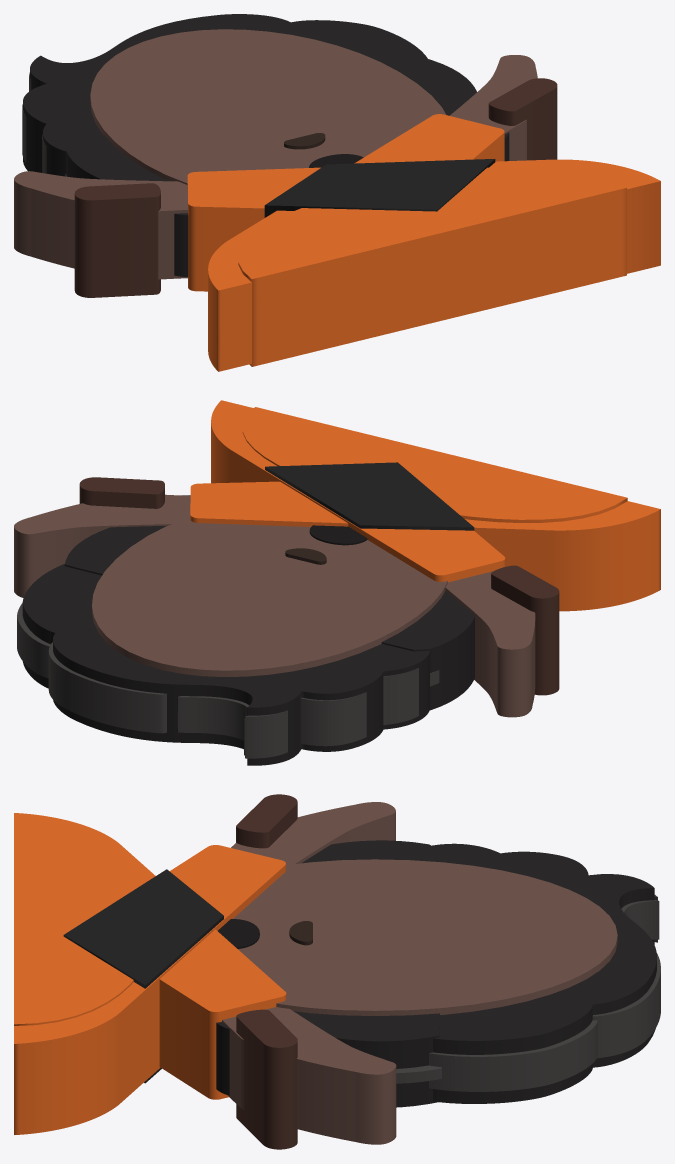
File: emoji_u1f645_1f3ff.glb
The picture shows the model from 3 angles, top to bottom: view 1: azimuth 30°, elevation 25°; view 2: azimuth 150°, elevation 25°; view 3: azimuth 270°, elevation 25°; orthographic projection. The views are drawn at different scales.
Parts seen in each view (by area): view 1: emoji_u1f645_1f3ff; view 2: emoji_u1f645_1f3ff; view 3: emoji_u1f645_1f3ff.
Boxes of the visible parts, x1=… form: emoji_u1f645_1f3ff: x1=14, y1=14, x2=660, y2=371; emoji_u1f645_1f3ff: x1=14, y1=400, x2=660, y2=765; emoji_u1f645_1f3ff: x1=14, y1=794, x2=660, y2=1149.
Bounding box in the file's own units: 0.0331 × 0.006 × 0.0334.
